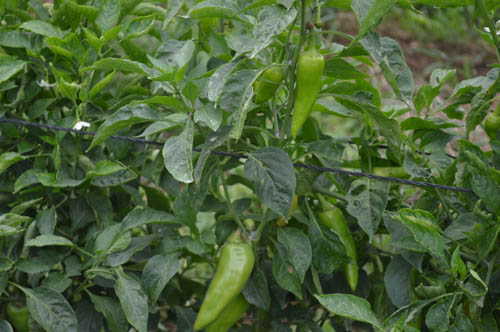ChiliPepper: (194, 244, 257, 330), (320, 207, 361, 298), (291, 54, 327, 142), (208, 295, 250, 332), (253, 64, 283, 111)
